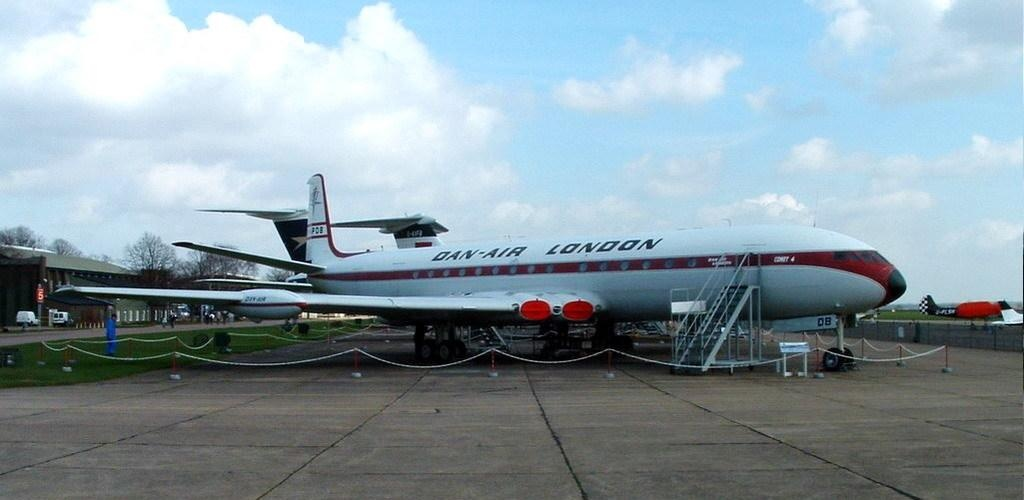airplane: (55, 169, 915, 371)
